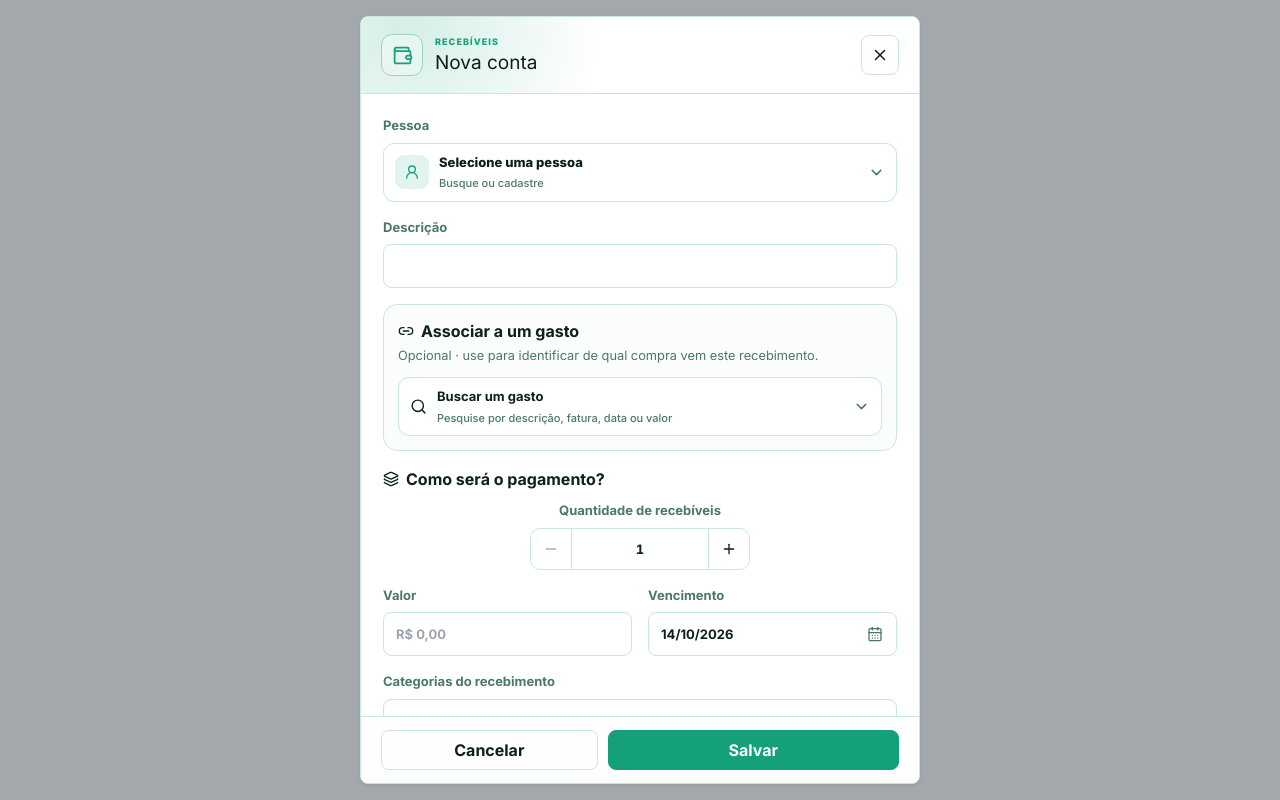
ReceivableModal expense defaults › prefills a one-time purchase as one receivable with the full amount
Click the button "Buscar um gasto": (490, 396) 398,377 -> 882,436
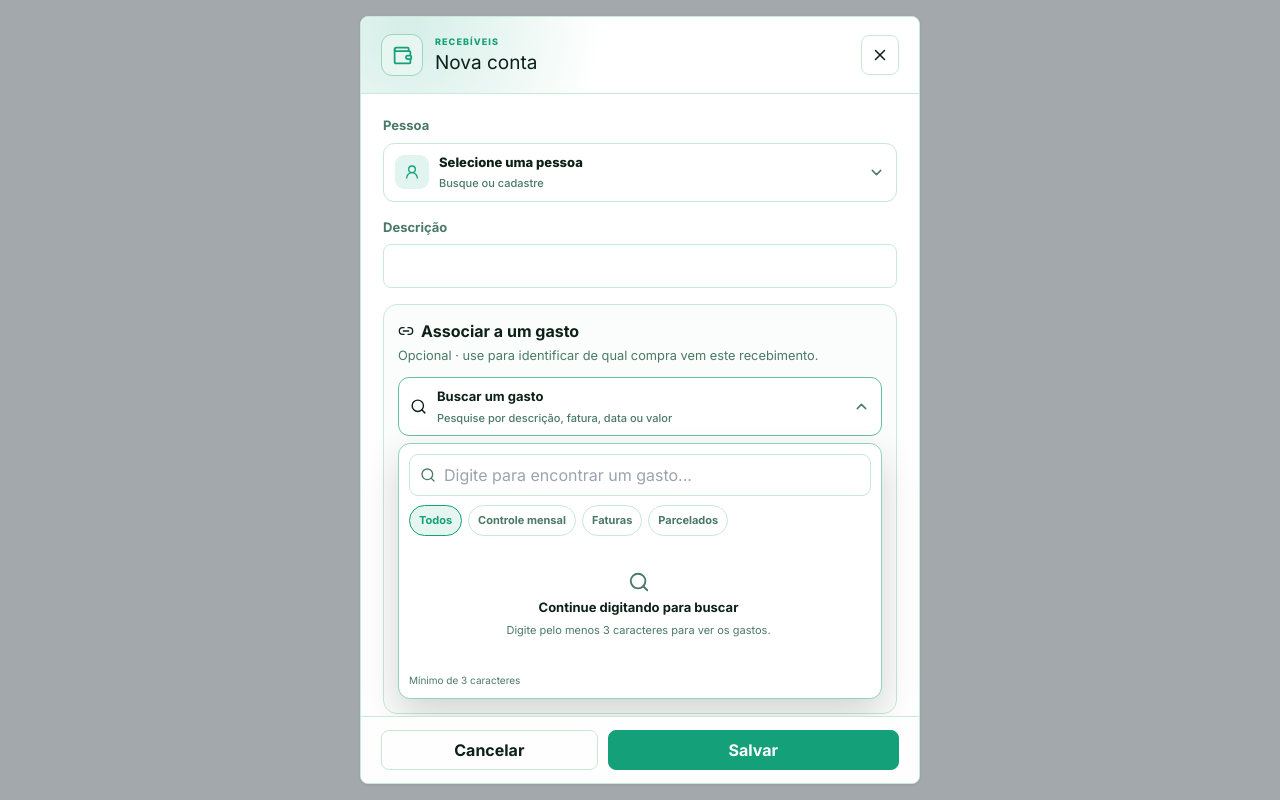
In the field with placeholder "Digite para encontrar um gasto...": (652, 475) 444,456 -> 860,494, type "compra"
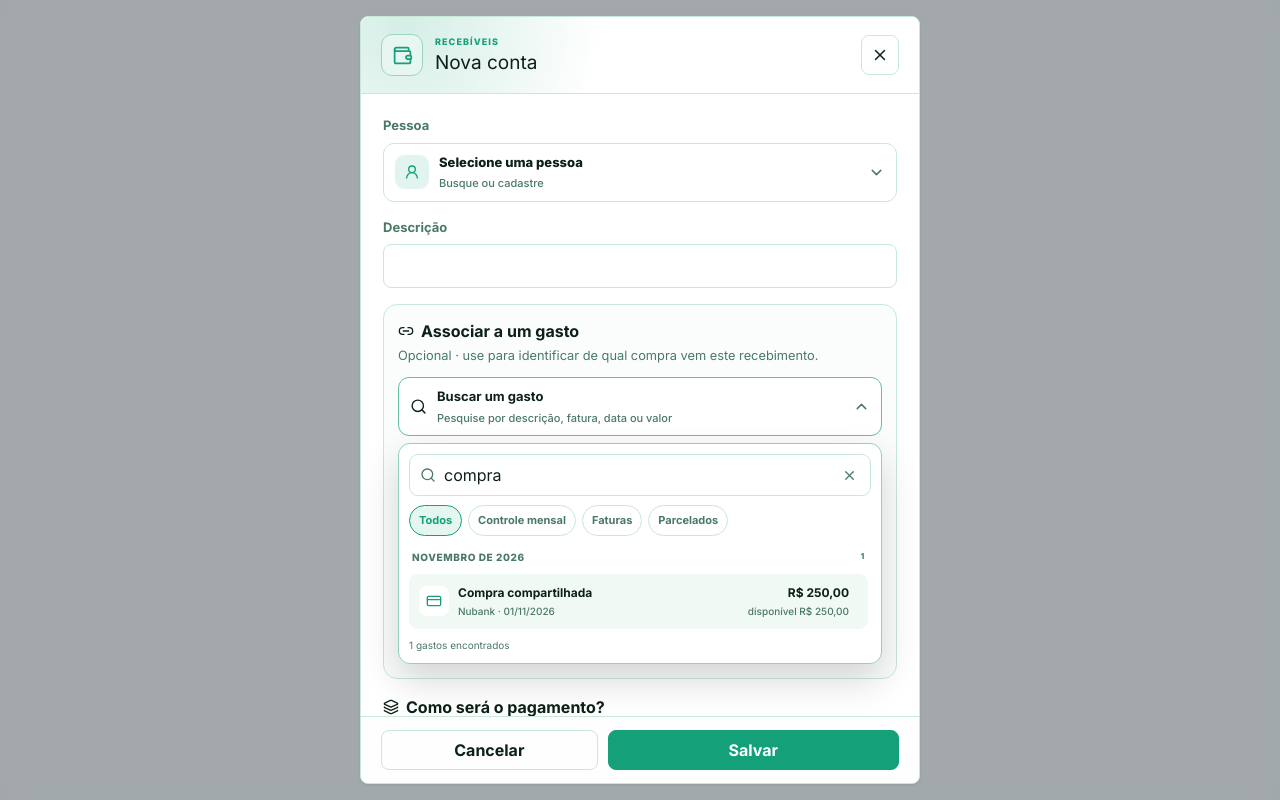
Click the button "Compra compartilhada": (525, 592) 409,574 -> 868,629
(page scrolled)
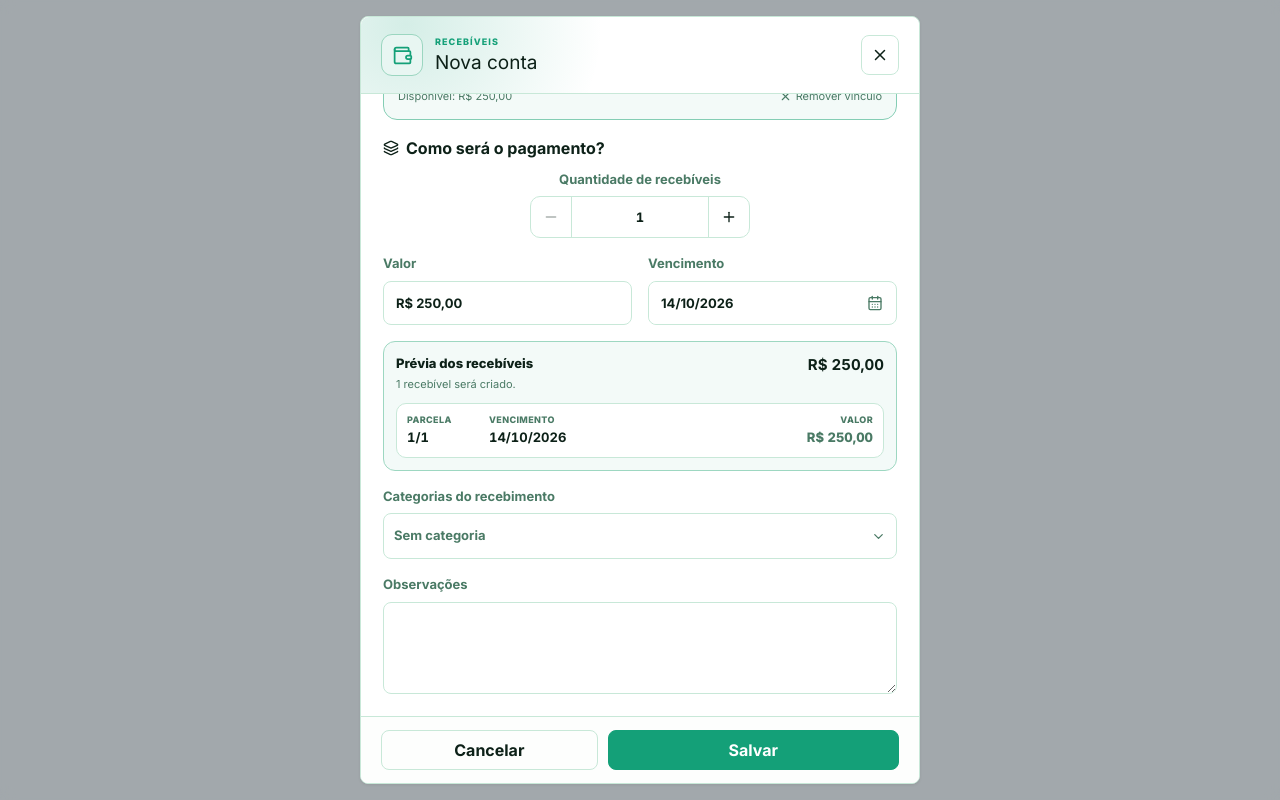
Expected: the text "R$ 250,00" in the row of "14/10/2026" is shown, 807,429 -> 873,445
Expected: the field below "Quantidade de recebíveis" holds "1", 571,197 -> 709,237
Expected: the 2nd field holds "R$ 250,00", 383,281 -> 632,325
